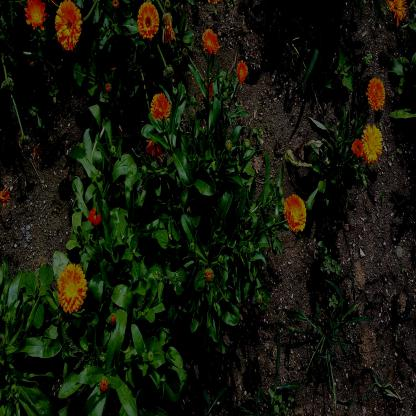marigold: (55, 0, 83, 51), (59, 264, 87, 311), (137, 2, 160, 38), (285, 195, 307, 231), (364, 125, 382, 163), (366, 78, 385, 109), (25, 0, 45, 29), (151, 92, 172, 119), (202, 28, 219, 53), (389, 0, 404, 21), (352, 140, 364, 159)
